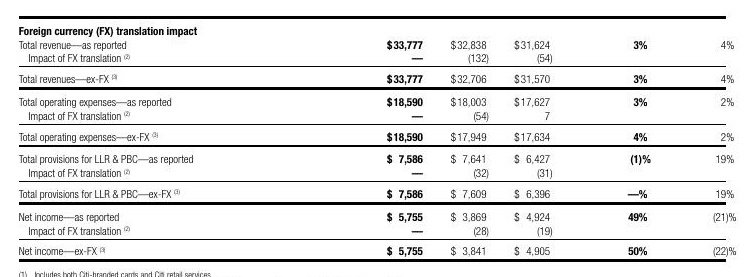table: (0, 0, 754, 277)
